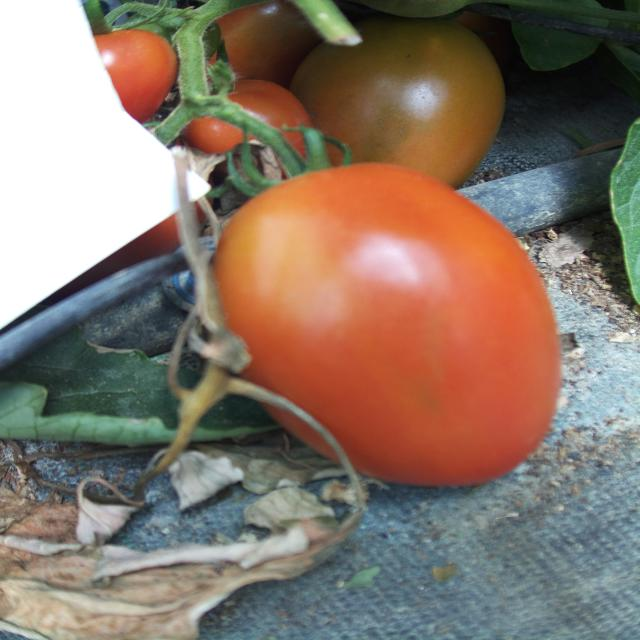kirmizi: (99, 130, 585, 492)
